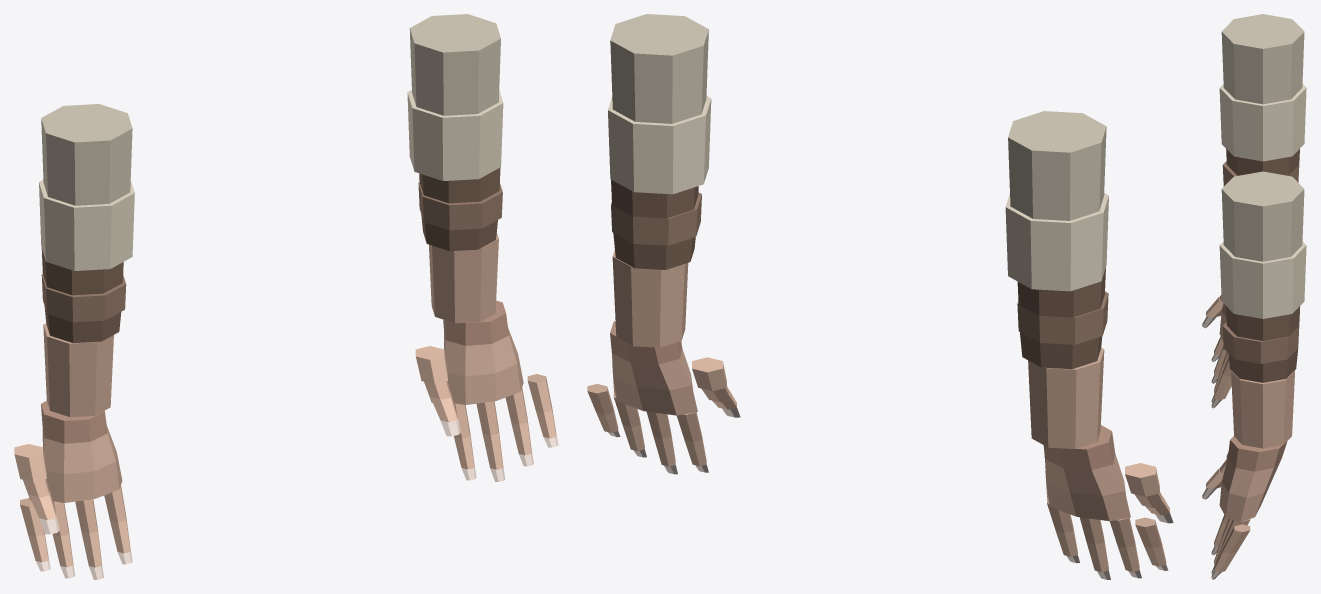
The model's file is voxel_player_fp_hands.glb.
3 views of the same model, side by side, from view 1: azimuth 30°, elevation 25°; view 2: azimuth 150°, elevation 25°; view 3: azimuth 270°, elevation 25° (orthographic). The views are drawn at different scales.
Visible parts, largest first — view 1: Sleeve_Upper_L, Sleeve_Upper_R, Sleeve_Roll_L, Sleeve_Roll_R, Forearm_Skin_L, Forearm_Skin_R, Palm_Main_L, Palm_Main_R, Bracer_Strap_R, Bracer_Strap_L, Bracer_Body_Upper_L, Bracer_Body_Upper_R (+7 smaller); view 2: Sleeve_Upper_L, Sleeve_Upper_R, Sleeve_Roll_R, Sleeve_Roll_L, Forearm_Skin_L, Forearm_Skin_R, Palm_Main_L, Palm_Main_R, Bracer_Strap_L, Bracer_Strap_R, Bracer_Body_Upper_L, Bracer_Body_Upper_R (+6 smaller); view 3: Sleeve_Upper_L, Sleeve_Upper_R, Sleeve_Roll_L, Sleeve_Roll_R, Forearm_Skin_R, Palm_Main_R, Bracer_Strap_R, Bracer_Body_Upper_R, Bracer_Body_Lower_R, Wrist_Skin_R, Bracer_Body_Upper_L, Pinky_Proximal_R (+7 smaller).
Part boxes in pixels (bbox=[...]): Sleeve_Upper_L: bbox=[41, 104, 132, 205]; Sleeve_Upper_R: bbox=[409, 14, 500, 115]; Sleeve_Roll_L: bbox=[39, 180, 134, 270]; Sleeve_Roll_R: bbox=[407, 90, 503, 180]; Forearm_Skin_L: bbox=[43, 323, 113, 417]; Forearm_Skin_R: bbox=[429, 232, 498, 323]; Palm_Main_L: bbox=[42, 426, 122, 502]; Palm_Main_R: bbox=[444, 328, 523, 404]; Bracer_Strap_R: bbox=[418, 182, 502, 230]; Bracer_Strap_L: bbox=[41, 274, 126, 322]; Bracer_Body_Upper_L: bbox=[41, 248, 123, 295]; Bracer_Body_Upper_R: bbox=[419, 167, 500, 203]; Sleeve_Upper_L: bbox=[1008, 111, 1106, 220]; Sleeve_Upper_R: bbox=[610, 14, 708, 123]; Sleeve_Roll_R: bbox=[608, 96, 711, 194]; Sleeve_Roll_L: bbox=[1005, 193, 1108, 291]; Forearm_Skin_L: bbox=[1028, 348, 1104, 448]; Forearm_Skin_R: bbox=[612, 249, 688, 347]; Palm_Main_L: bbox=[1045, 454, 1130, 521]; Palm_Main_R: bbox=[612, 348, 697, 415]; Bracer_Strap_L: bbox=[1017, 291, 1108, 344]; Bracer_Strap_R: bbox=[611, 192, 701, 245]; Bracer_Body_Upper_L: bbox=[1017, 267, 1105, 317]; Bracer_Body_Upper_R: bbox=[611, 179, 698, 218]; Sleeve_Upper_L: bbox=[1221, 14, 1304, 104]; Sleeve_Upper_R: bbox=[1221, 171, 1304, 261]; Sleeve_Roll_L: bbox=[1219, 84, 1306, 161]; Sleeve_Roll_R: bbox=[1219, 241, 1306, 318]; Forearm_Skin_R: bbox=[1231, 370, 1294, 448]; Palm_Main_R: bbox=[1219, 459, 1281, 521]; Bracer_Strap_R: bbox=[1222, 322, 1299, 363]; Bracer_Body_Upper_R: bbox=[1226, 306, 1300, 340]; Bracer_Body_Lower_R: bbox=[1228, 348, 1298, 382]; Wrist_Skin_R: bbox=[1228, 436, 1287, 471]; Bracer_Body_Upper_L: bbox=[1226, 149, 1299, 175]; Pinky_Proximal_R: bbox=[1222, 524, 1250, 553].
Size of the model in its own units: 0.8078 by 0.6281 by 0.1572.
